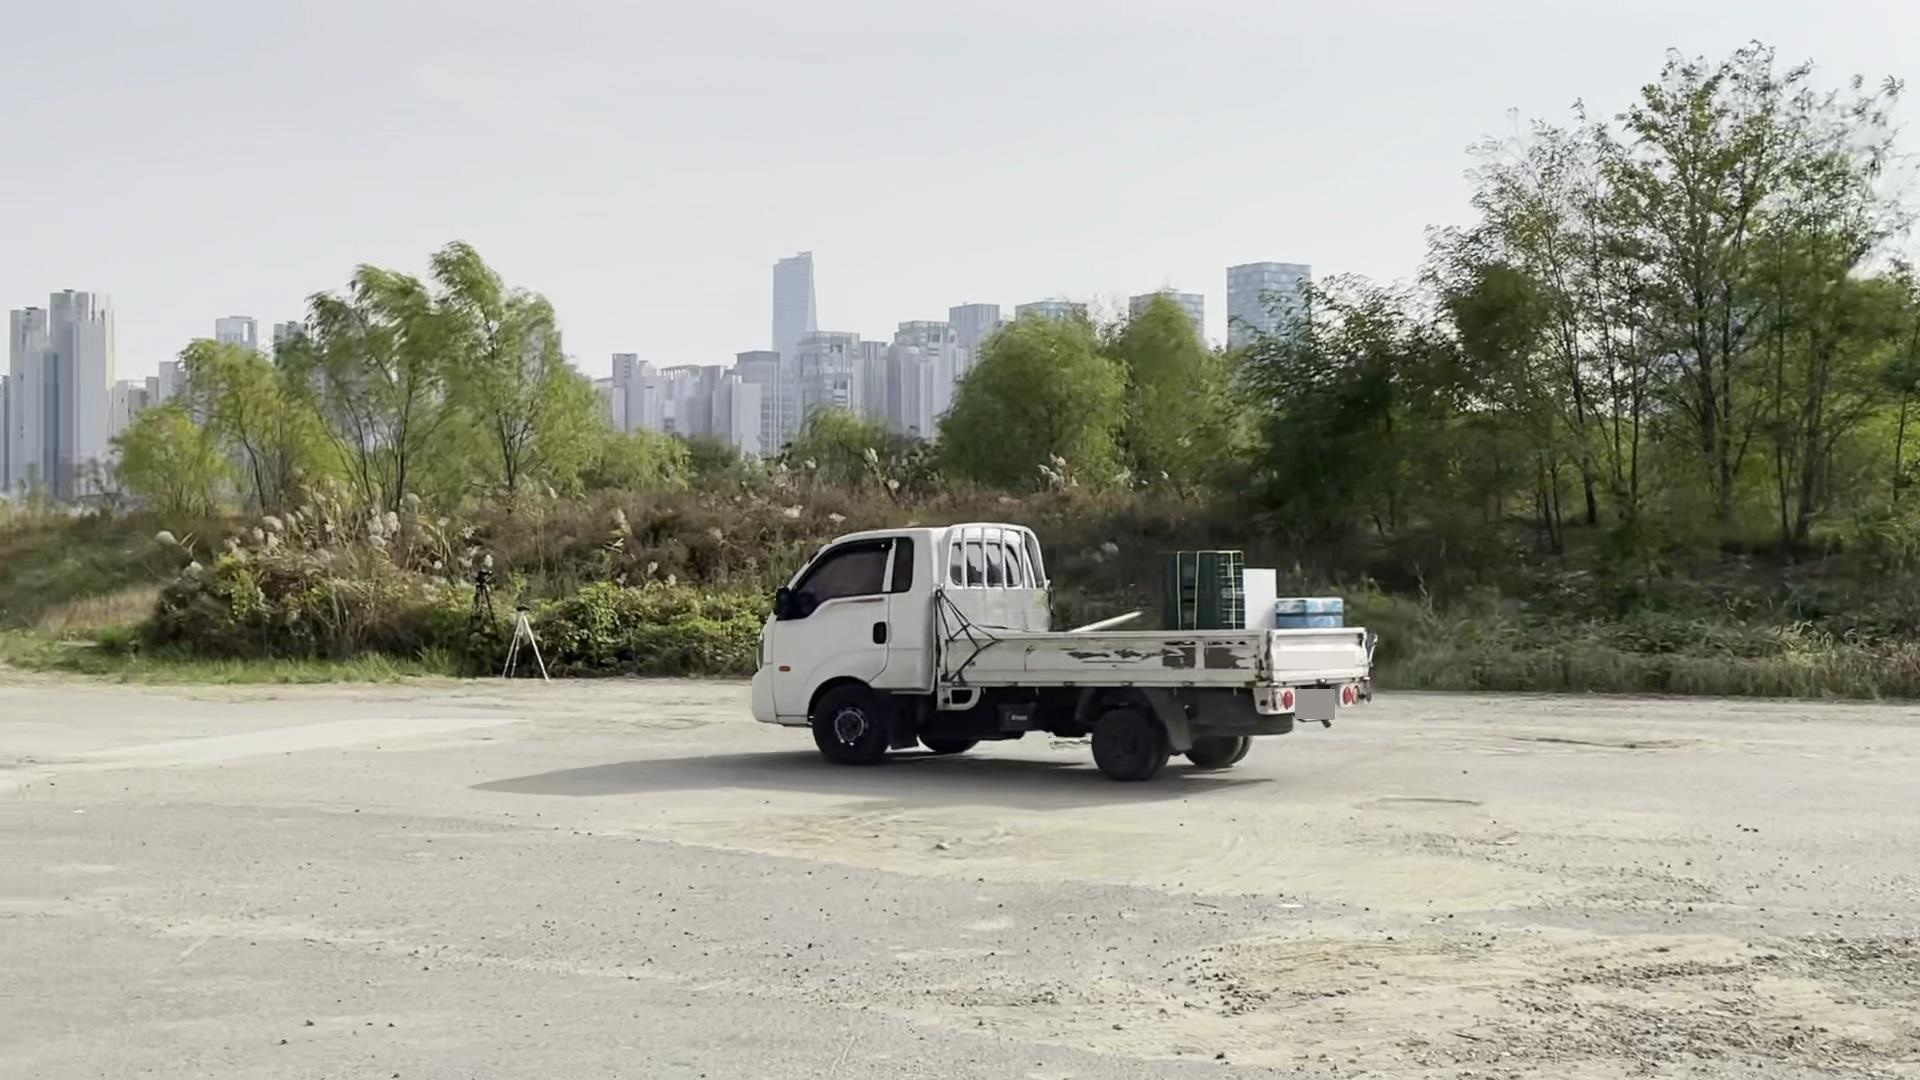불법차량: (751, 522, 1379, 783)
